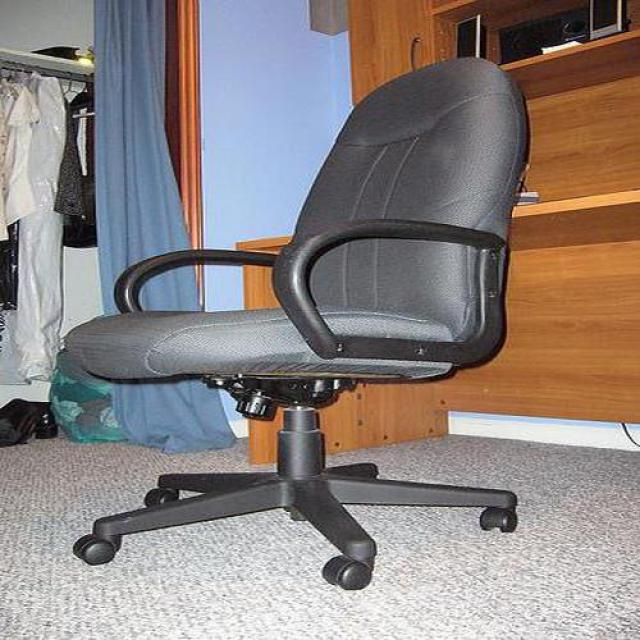swivelchair: (65, 59, 530, 593)
